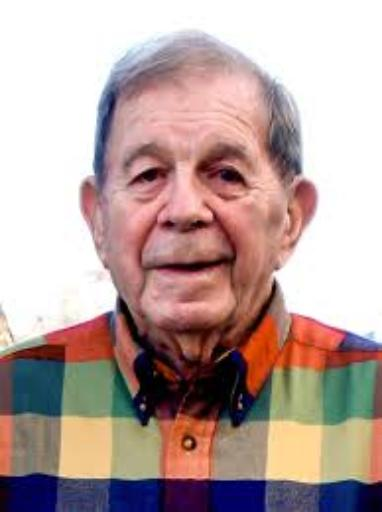left_eye: (209, 166, 247, 189)
left_lip_corner: (218, 254, 237, 274)
right_eye: (129, 166, 169, 189)
right_lip_corner: (144, 262, 164, 277)
